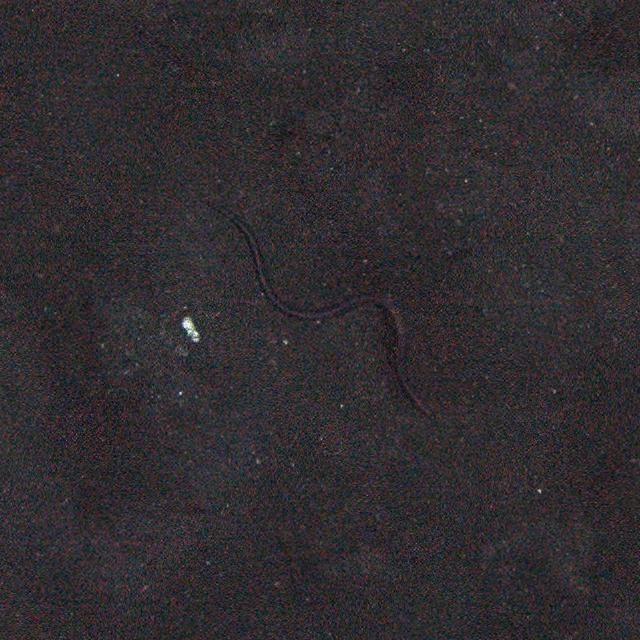eel: (205, 201, 434, 421)
